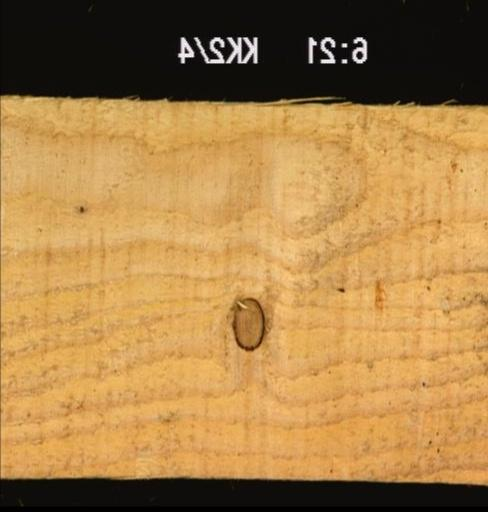dry_knot: (229, 294, 267, 350)
small_knot: (78, 202, 85, 213)
